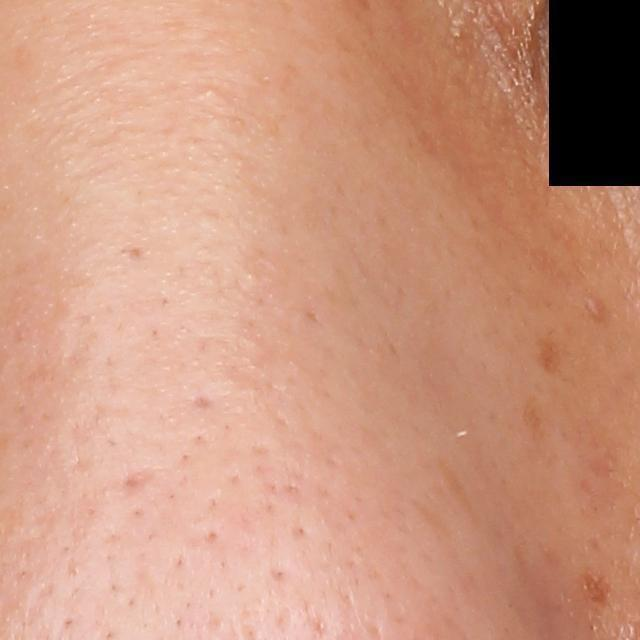atrophic_scar: (120, 466, 157, 499)
melasma: (531, 337, 563, 376), (586, 569, 613, 604)
